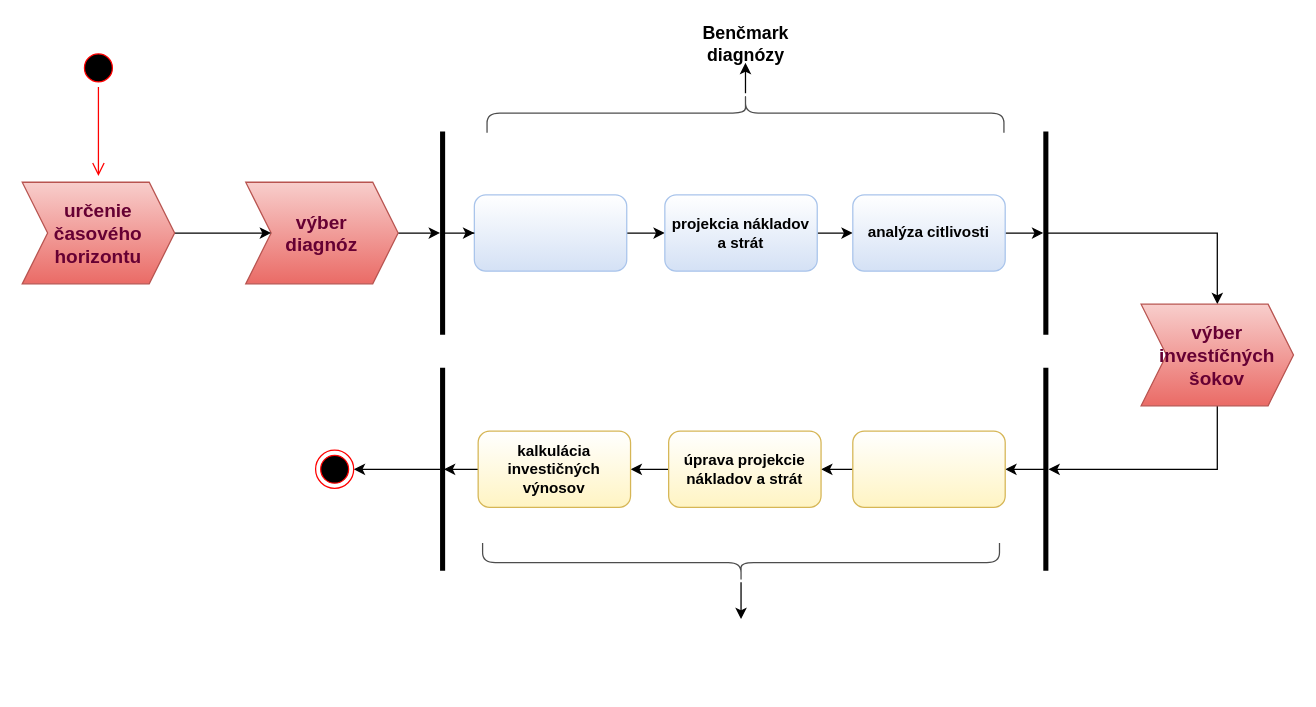
Some shapes in this 1316 by 707 pixel diagram are drawn without their labels. The centre of each missing label's shape, as x and y in pixels:
Dopad investičného šoku: (x=740, y=562)
projekcia kmeňa pacientov: (x=550, y=232)
úprava projekcie kmeňa pacientov: (x=928, y=468)
